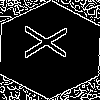X: (25, 25, 78, 59)
